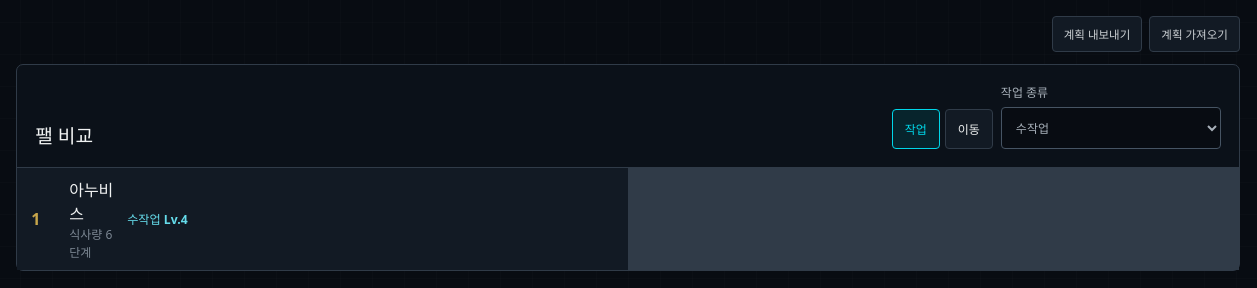
Test: ToolsBoard › switches work and travel inside one comparison workspace
This screenshot has width=1257, height=288.
Expected: the heading "팰 비교" is shown, [35,121,93,149]
Expected: the dropdown labelled "작업 종류" is shown, [1001,107,1221,149]
Click the button "이동": point(969, 129) [945,109,993,149]
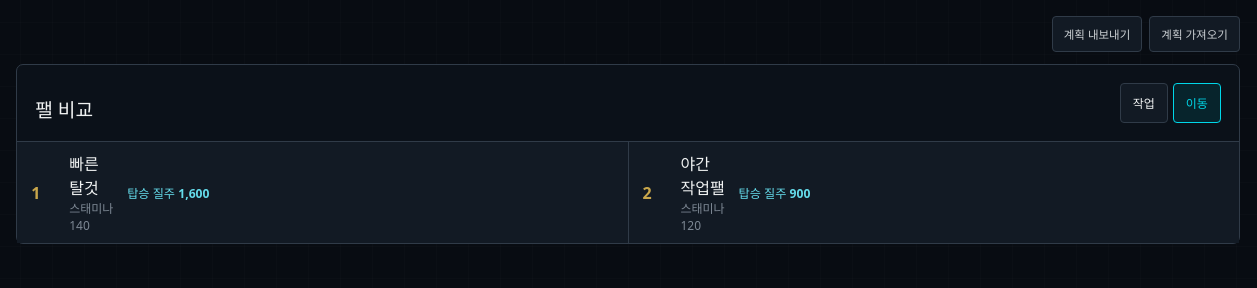
Result: the text "탑승 질주 1,600" is shown at [127,184,210,202]
